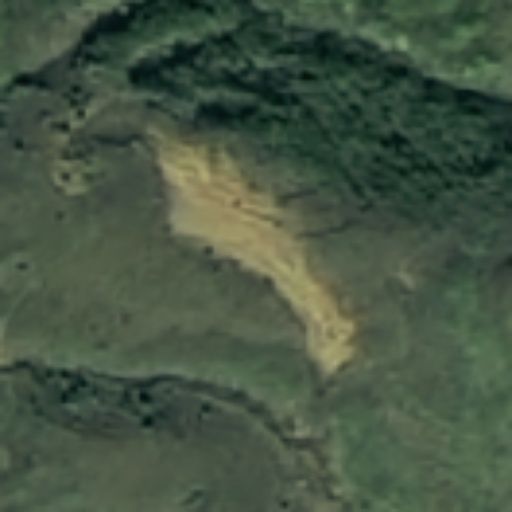landslide: (149, 136, 354, 374)
